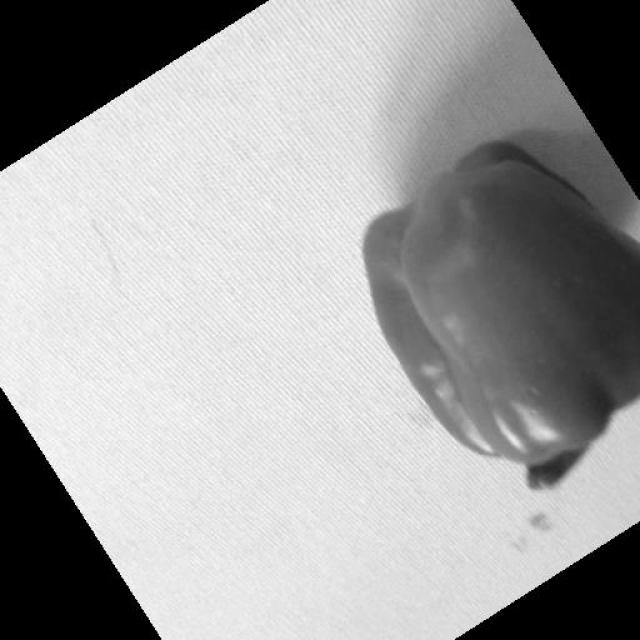Fresh_Capsicum: (340, 155, 640, 476)
